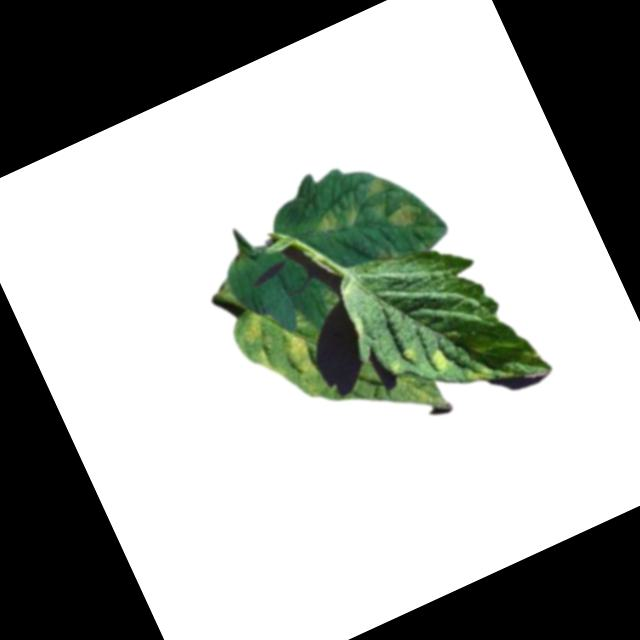Leaf_Mold: (275, 328, 322, 389), (309, 202, 355, 243), (231, 310, 269, 348), (384, 201, 424, 235), (360, 174, 395, 209), (424, 344, 455, 376)
